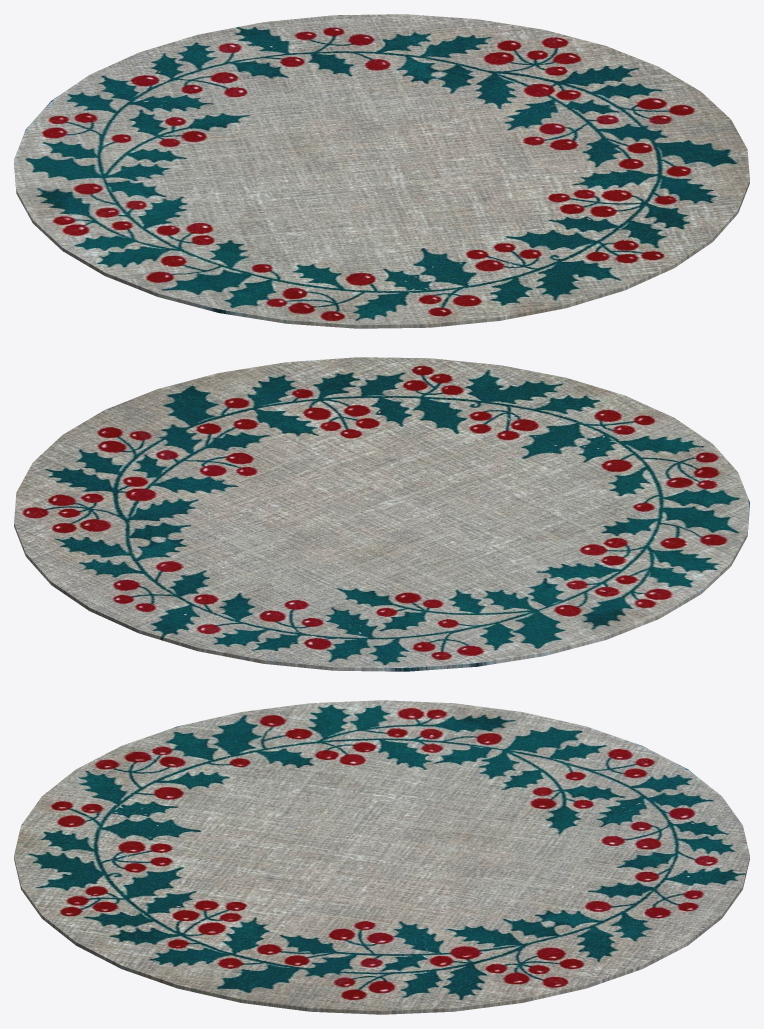
File: Carpet.fbx
3 renders of one model, top to bottom at view 1: azimuth 30°, elevation 25°; view 2: azimuth 150°, elevation 25°; view 3: azimuth 270°, elevation 25°, orthographic.
Visible parts, largest first — view 1: Carpet; view 2: Carpet; view 3: Carpet.
Part boxes in pixels (left/top/right/bottom): Carpet: left=14, top=14, right=749, bottom=328; Carpet: left=14, top=357, right=749, bottom=671; Carpet: left=14, top=700, right=749, bottom=1014.
Size of the model in its own units: 4.24 by 0.0223 by 4.24.
1 material, 1 textured.
